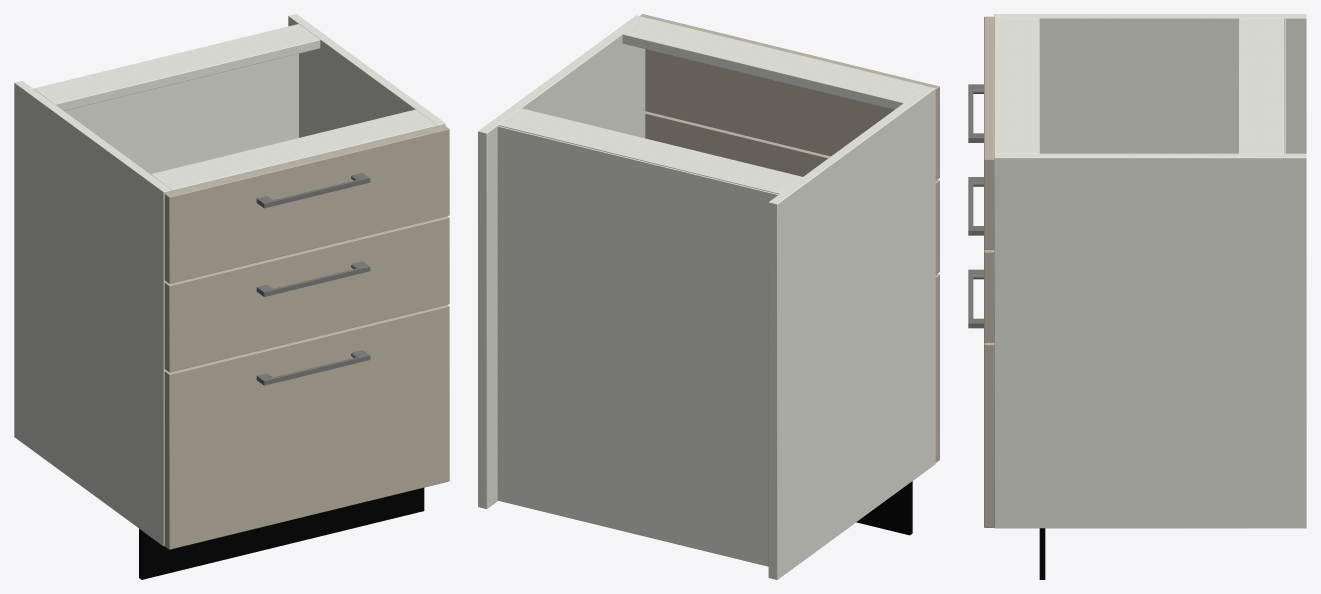
The picture shows the model from 3 angles, left to right: view 1: azimuth 30°, elevation 25°; view 2: azimuth 150°, elevation 25°; view 3: azimuth 270°, elevation 25°; orthographic projection. The views are drawn at different scales.
Visible parts, largest first — view 1: r19, Stranica Leva, Leđa, Vezna Zadnja H, Stranica Desna, Vezna Prednja H, Union (×3); view 2: Leđa, Stranica Leva, r19, Stranica Desna, Vezna Prednja H, Vezna Zadnja H; view 3: Stranica Desna, Stranica Leva, Vezna Prednja H, Vezna Zadnja H, r19, Union (×3).
Part boxes in pixels (x1,y1,x2,y2): r19: (139, 125, 449, 579); Stranica Leva: (14, 81, 171, 546); Leđa: (64, 53, 298, 174); Vezna Zadnja H: (34, 24, 320, 110); Stranica Desna: (288, 14, 445, 137); Vezna Prednja H: (150, 109, 437, 191); Union (×3): (256, 172, 370, 385); Leđa: (497, 126, 778, 566); Stranica Leva: (768, 86, 935, 579); r19: (640, 14, 939, 535); Stranica Desna: (478, 15, 645, 508); Vezna Prednja H: (622, 17, 926, 109); Vezna Zadnja H: (498, 108, 802, 194); Stranica Desna: (994, 153, 1306, 528); Stranica Leva: (994, 14, 1306, 153); Vezna Prednja H: (994, 18, 1039, 153); Vezna Zadnja H: (1238, 18, 1283, 153); r19: (984, 16, 1045, 579); Union (×3): (968, 84, 983, 328).
Bounding box in the file's own units: 0.6 × 0.82 × 0.596.
Materials: 4 (2 with a texture image).
